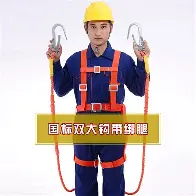safety belt: (65, 48, 134, 171)
